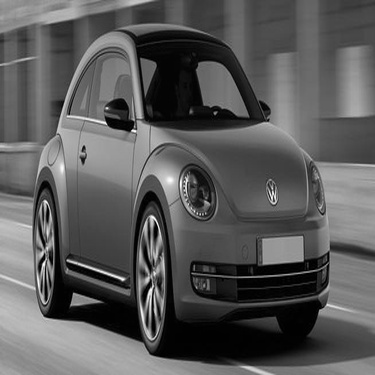car: (25, 17, 332, 343)
